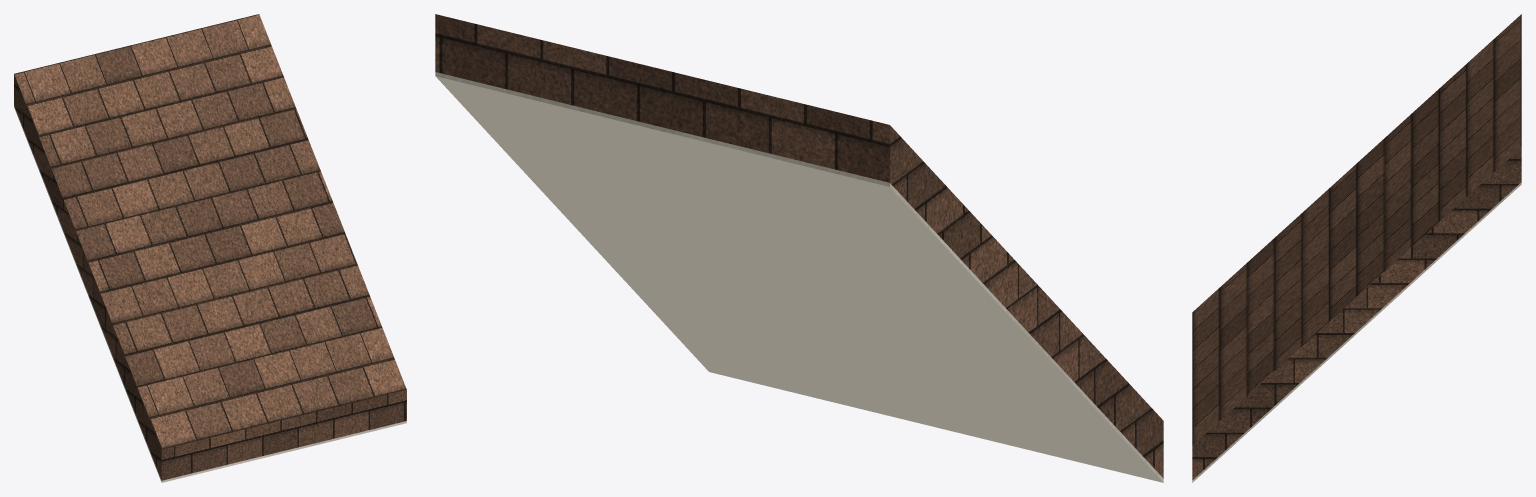
Rendered from roof_slope_end_l.glb.
3 views of the same model, side by side, from view 1: azimuth 30°, elevation 25°; view 2: azimuth 150°, elevation 25°; view 3: azimuth 270°, elevation 25° (orthographic). The views are drawn at different scales.
Visible parts, largest first — view 1: roof_slope_end_l_shingle, roof_slope_end_l_plaster; view 2: roof_slope_end_l_plaster, roof_slope_end_l_shingle; view 3: roof_slope_end_l_shingle, roof_slope_end_l_plaster.
Boxes of the visible parts, x1=… form: roof_slope_end_l_shingle: x1=14, y1=14, x2=406, y2=480; roof_slope_end_l_plaster: x1=14, y1=105, x2=406, y2=482; roof_slope_end_l_plaster: x1=435, y1=72, x2=1163, y2=482; roof_slope_end_l_shingle: x1=435, y1=14, x2=1163, y2=478; roof_slope_end_l_shingle: x1=1192, y1=14, x2=1521, y2=479; roof_slope_end_l_plaster: x1=1192, y1=182, x2=1521, y2=482.
Bounding box in the file's own units: 2.3 × 2.7 × 2.4.
Materials: 2 (2 with a texture image).
